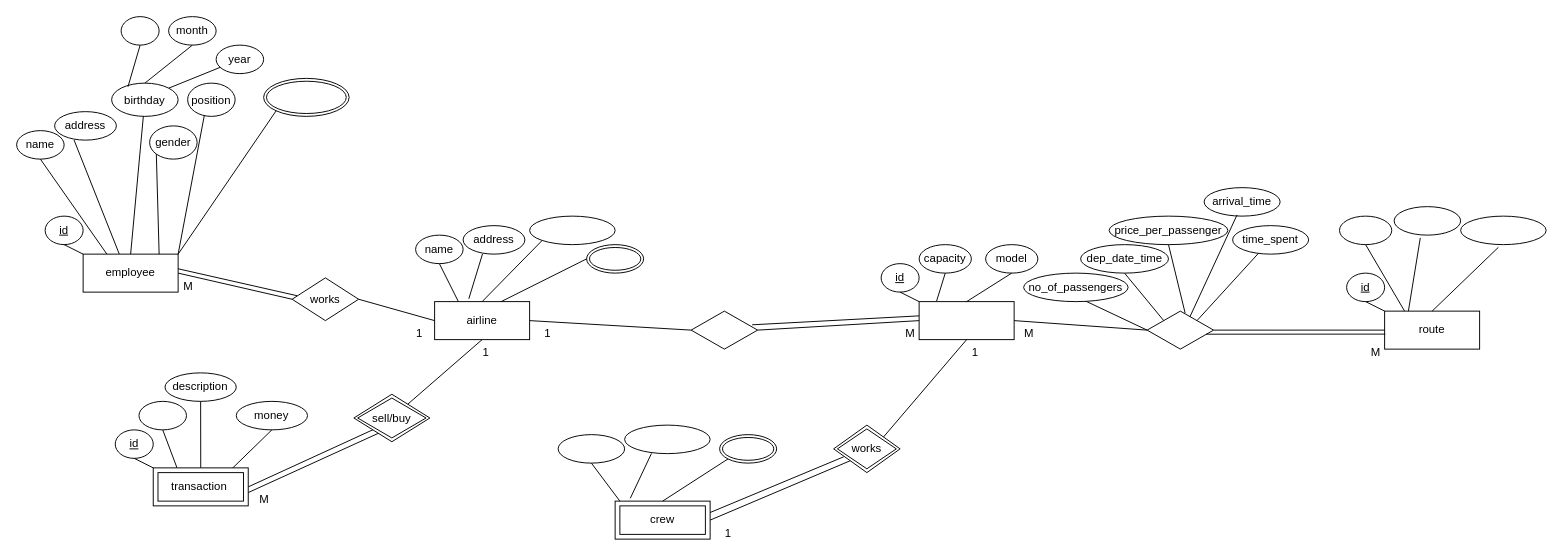
This 1563x559 diagram has some shape labels left out. Here are the shapes that lost their labels. From the top down, the box of each, then its label:
(120, 16, 159, 45): day
(263, 77, 349, 116): qualifications
(529, 215, 615, 245): contact_name
(1339, 215, 1392, 245): origin
(1393, 206, 1461, 235): destination
(1460, 215, 1546, 245): classification
(586, 244, 644, 273): phones
(690, 310, 758, 349): owns
(918, 301, 1014, 340): aircraft
(1146, 310, 1214, 349): assigned
(138, 400, 186, 430): date
(557, 434, 625, 463): major pilot
(624, 424, 710, 454): assistant pilot
(719, 434, 777, 463): hostes
